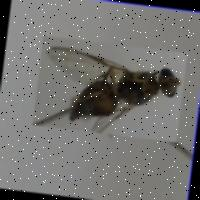Oriental-fruit-fly: (33, 36, 188, 142)
